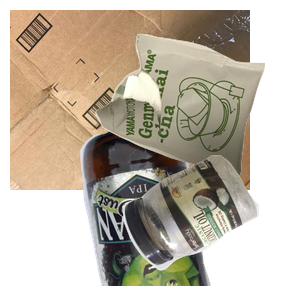cardboard: (10, 10, 250, 190)
glass: (78, 120, 281, 300)
plastic: (120, 152, 300, 300)
trash: (93, 31, 300, 205)
